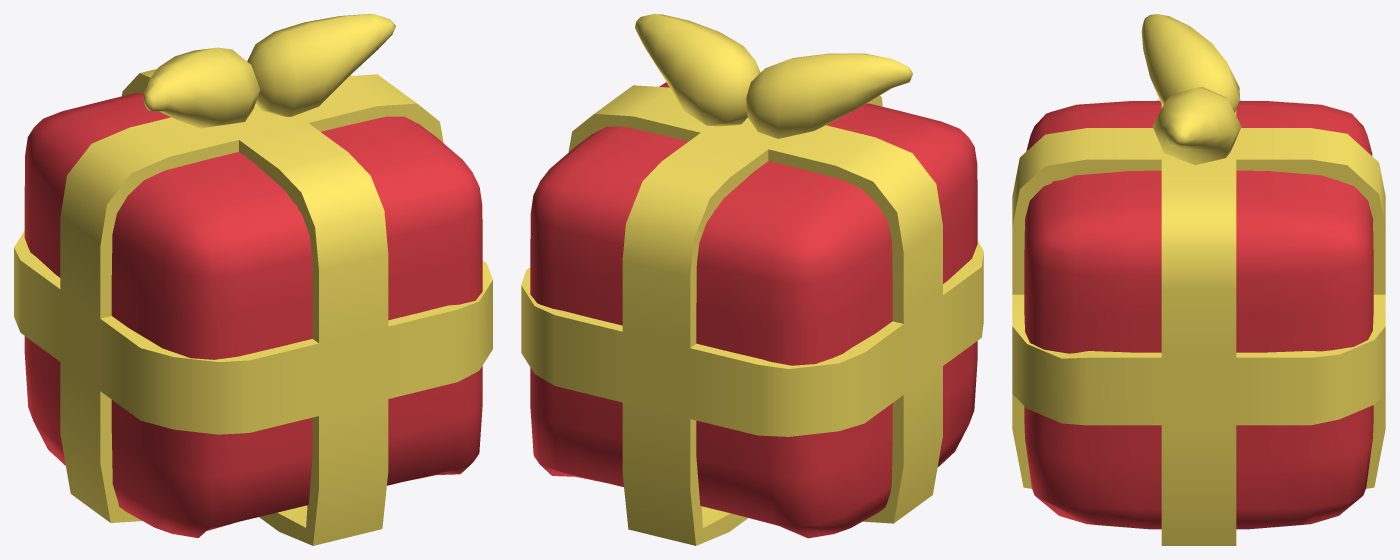
The model's file is present01.fbx.
The picture shows the model from 3 angles, left to right: view 1: azimuth 30°, elevation 25°; view 2: azimuth 150°, elevation 25°; view 3: azimuth 270°, elevation 25°; orthographic projection. The views are drawn at different scales.
Visible parts, largest first — view 1: present; view 2: present; view 3: present.
Part boxes in pixels (left/top/right/bottom): present: left=14, top=14, right=492, bottom=545; present: left=521, top=14, right=983, bottom=545; present: left=1012, top=14, right=1385, bottom=545.
Bounding box in the file's own units: 22.41 × 22.41 × 27.69.
